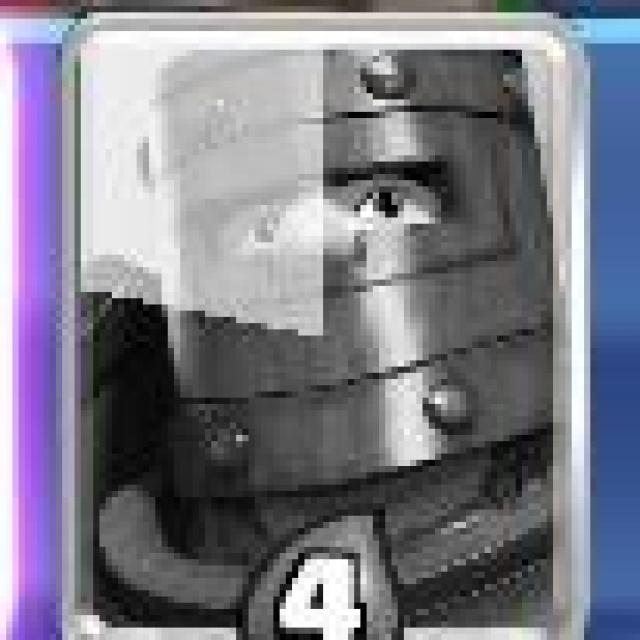Dark_Prince: (48, 3, 593, 640)
